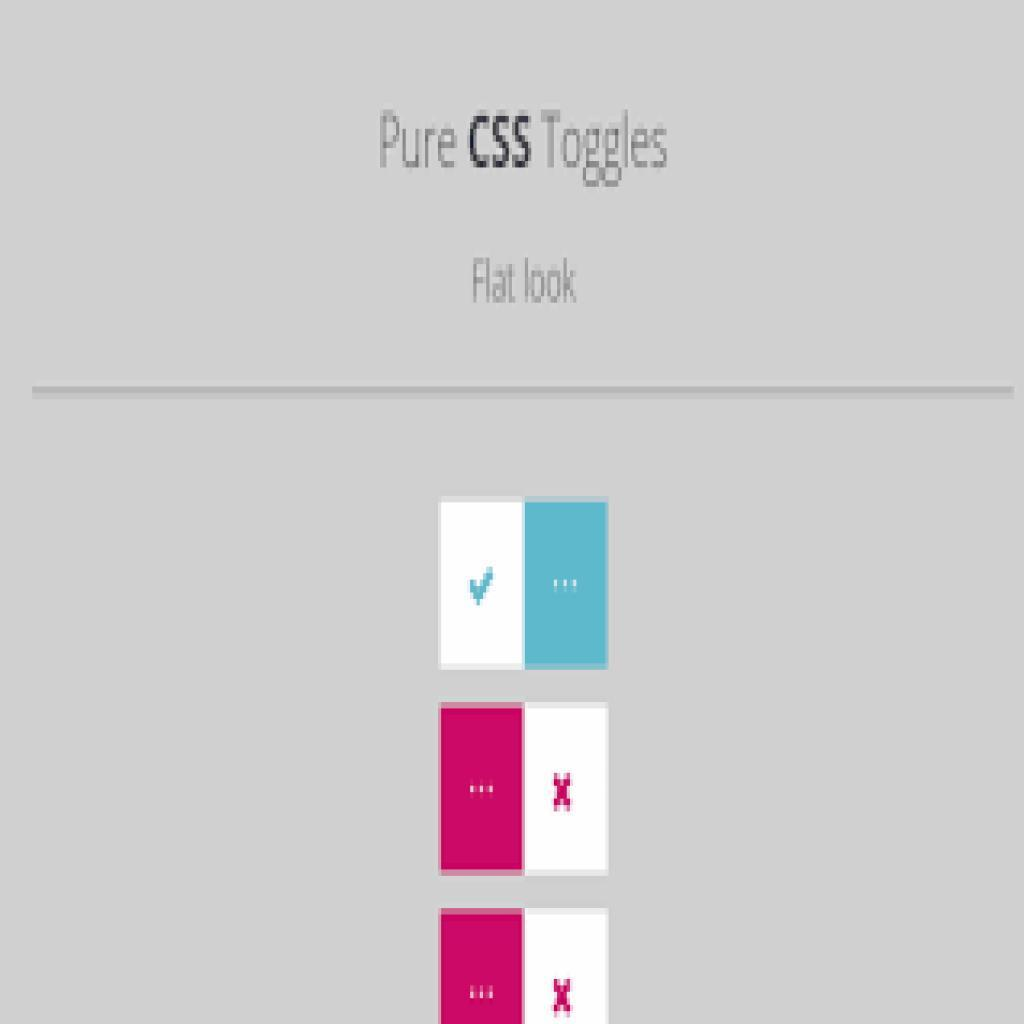checkbox: (439, 503, 526, 671), (525, 705, 610, 876), (525, 911, 611, 1024)
